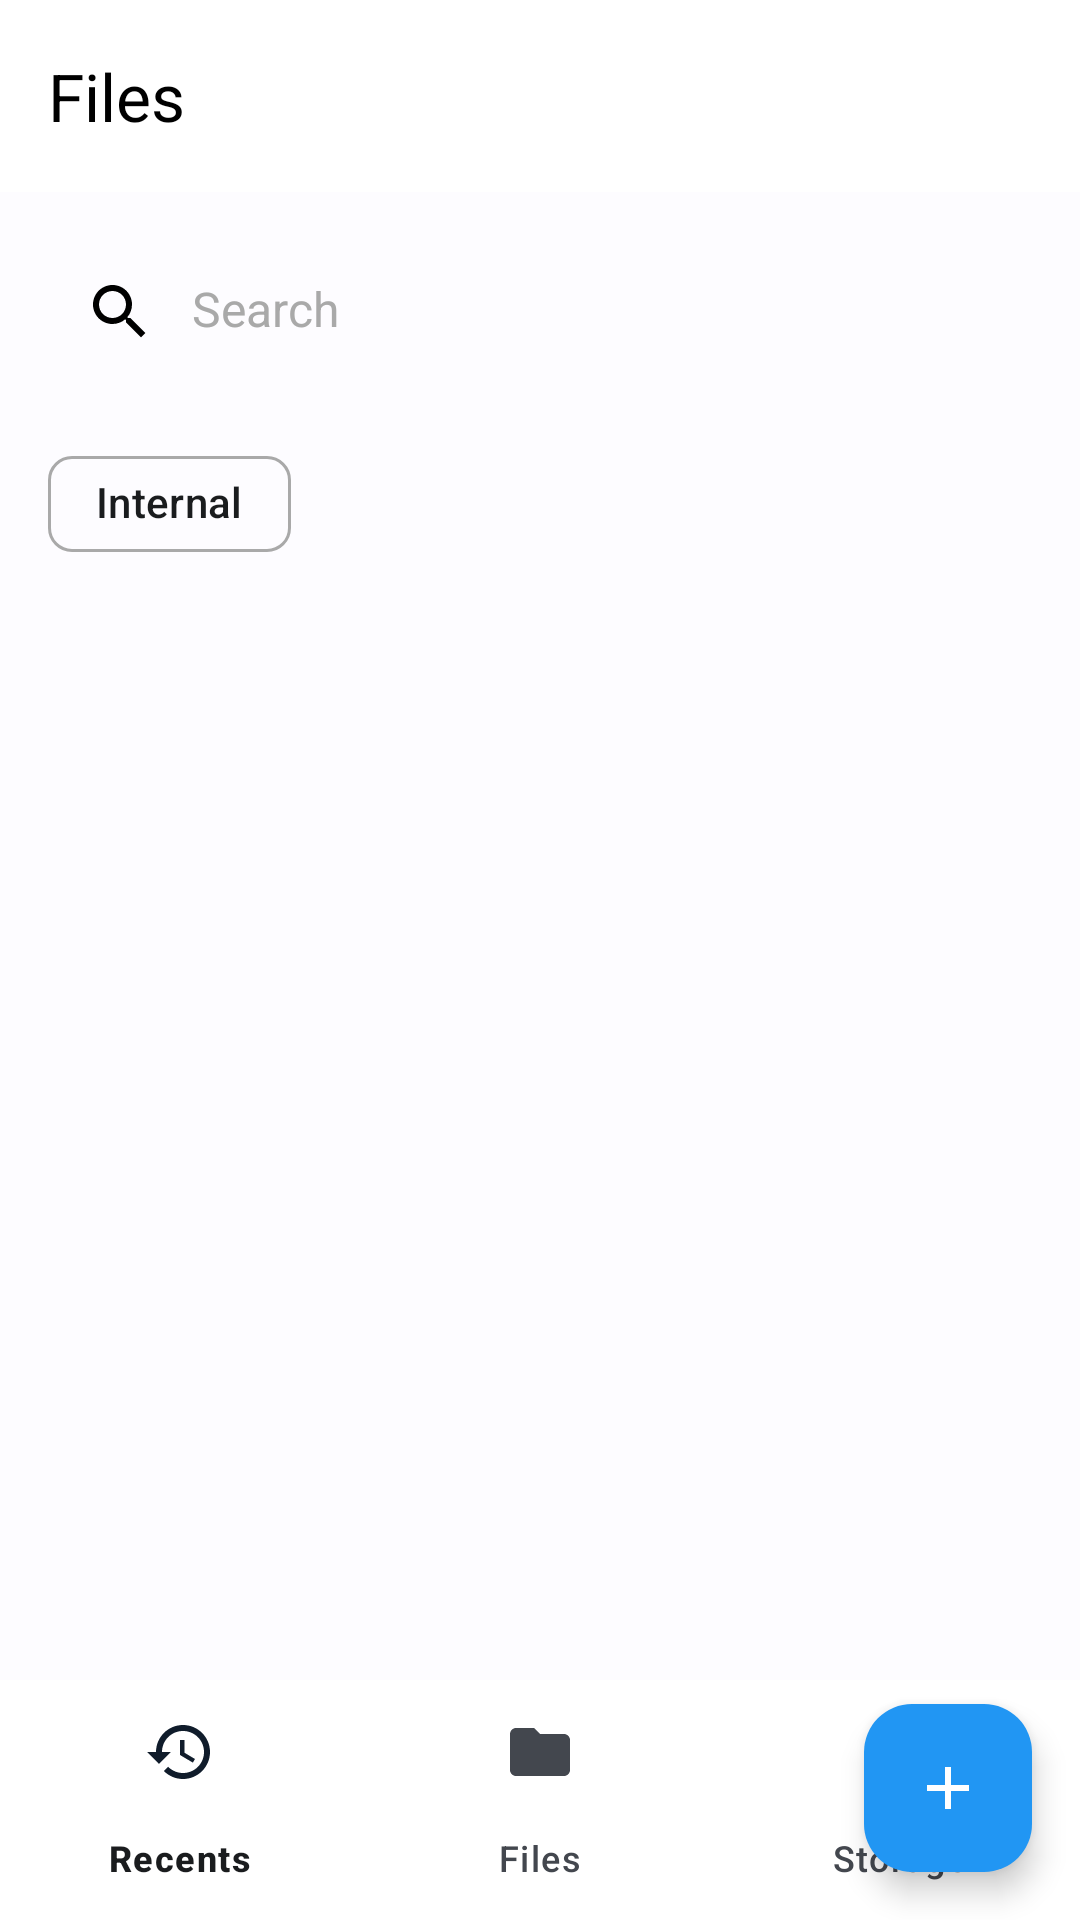

Where to tap for icons on this 1080px x 1920px app screen, as (x=x, y=y):
Create new: (x=948, y=1788)
